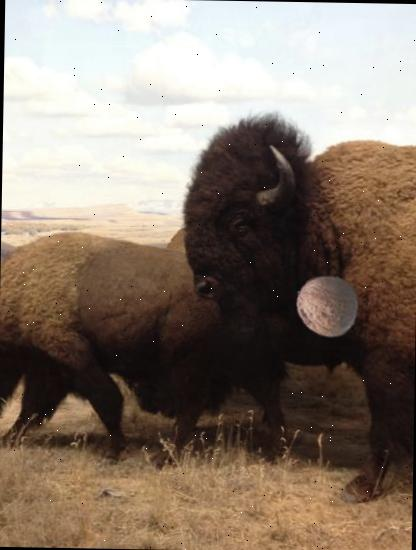Walnut: (294, 272, 361, 338)
